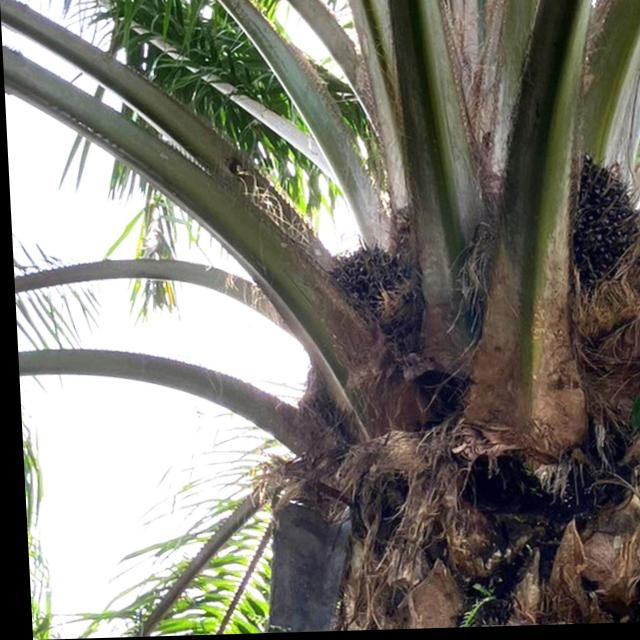unripe: (323, 239, 406, 328)
